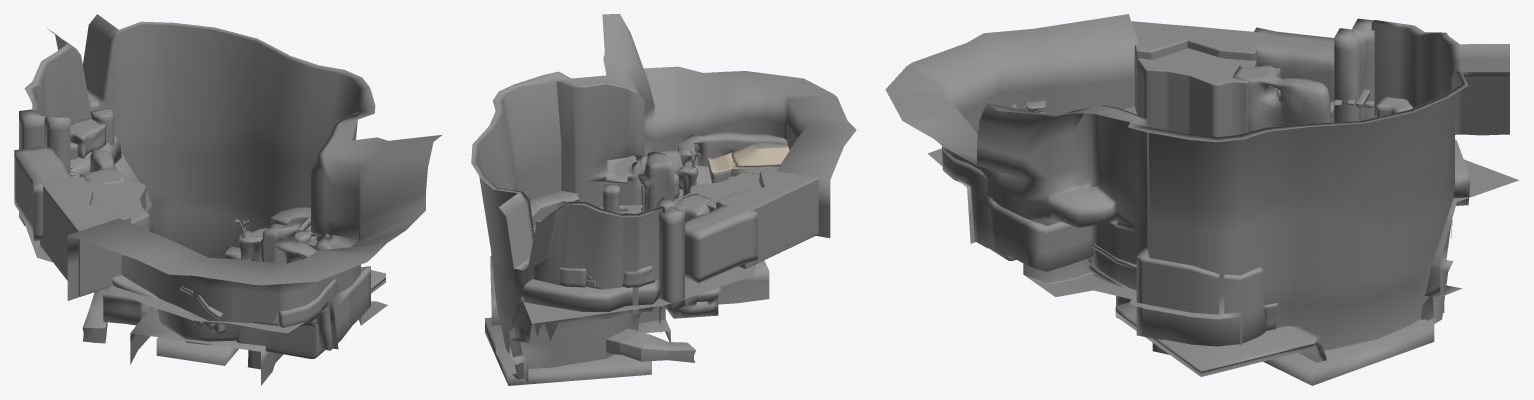
File: env_level03_volcanoV8.fbx
3 views of the same model, side by side, from view 1: azimuth 30°, elevation 25°; view 2: azimuth 150°, elevation 25°; view 3: azimuth 270°, elevation 25° (orthographic). The views are drawn at different scales.
Visible parts, largest first — view 1: polySurface1, polySurface2, ground, platform_007b, polySurface3, innerWall_003, innerWall_001, lakeBottom_003, platform_007a, lakeBottom_001, platform_020, innerWall_002 (+4 smaller); view 2: polySurface2, polySurface1, polySurface3, ground, platform_007b, innerWall_003, lakeBottom_001, innerWall_001, polySurface4, platform_020, lakeBottom_003, platform_012 (+6 smaller); view 3: polySurface1, polySurface2, innerWall_004, platform_007a, ground, lakeBottom_002, innerWall_002, lakeBottom_001, platform_007b, innerWall_001, innerWall_003, polySurface3.
Part boxes in pixels (bbox=[...]): polySurface1: bbox=[24, 14, 375, 258]; polySurface2: bbox=[67, 111, 442, 325]; ground: bbox=[70, 118, 370, 358]; platform_007b: bbox=[40, 176, 130, 296]; polySurface3: bbox=[22, 153, 338, 349]; innerWall_003: bbox=[14, 146, 72, 241]; innerWall_001: bbox=[19, 109, 70, 225]; lakeBottom_003: bbox=[130, 307, 277, 385]; platform_007a: bbox=[87, 175, 149, 230]; lakeBottom_001: bbox=[156, 337, 238, 365]; platform_020: bbox=[259, 223, 302, 263]; innerWall_002: bbox=[79, 149, 124, 185]; polySurface2: bbox=[556, 14, 856, 238]; polySurface1: bbox=[471, 71, 664, 379]; polySurface3: bbox=[509, 167, 778, 382]; ground: bbox=[521, 132, 787, 318]; platform_007b: bbox=[716, 168, 818, 268]; innerWall_003: bbox=[685, 204, 757, 282]; lakeBottom_001: bbox=[485, 317, 670, 385]; innerWall_001: bbox=[656, 197, 684, 311]; polySurface4: bbox=[606, 328, 695, 362]; platform_020: bbox=[638, 151, 674, 210]; lakeBottom_003: bbox=[659, 260, 769, 333]; platform_012: bbox=[728, 142, 789, 169]; polySurface1: bbox=[1128, 20, 1509, 357]; polySurface2: bbox=[885, 14, 1149, 299]; innerWall_004: bbox=[1136, 248, 1265, 346]; platform_007a: bbox=[1136, 48, 1256, 136]; ground: bbox=[942, 96, 1470, 291]; lakeBottom_002: bbox=[1115, 302, 1326, 376]; innerWall_002: bbox=[1232, 65, 1330, 131]; lakeBottom_001: bbox=[1263, 319, 1434, 385]; platform_007b: bbox=[1131, 21, 1264, 109]; innerWall_001: bbox=[1334, 18, 1374, 122]; innerWall_003: bbox=[1254, 27, 1334, 101]; polySurface3: bbox=[927, 148, 1518, 320].
Bounding box in the file's own units: 21163 × 14576 × 29918.
